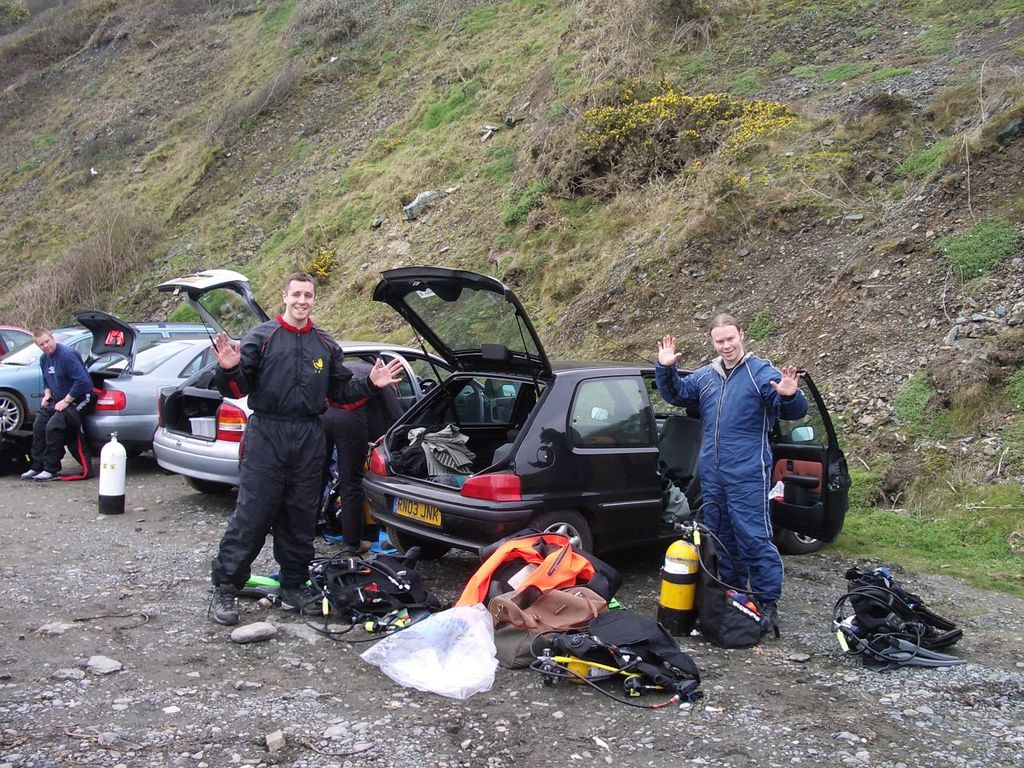Person: (206, 272, 405, 626), (655, 314, 807, 632), (320, 361, 406, 557), (16, 325, 97, 482)
